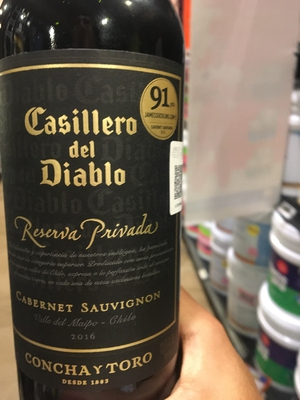casillero del diablo reserva privada cabernet sauvignon: (4, 6, 196, 398)
